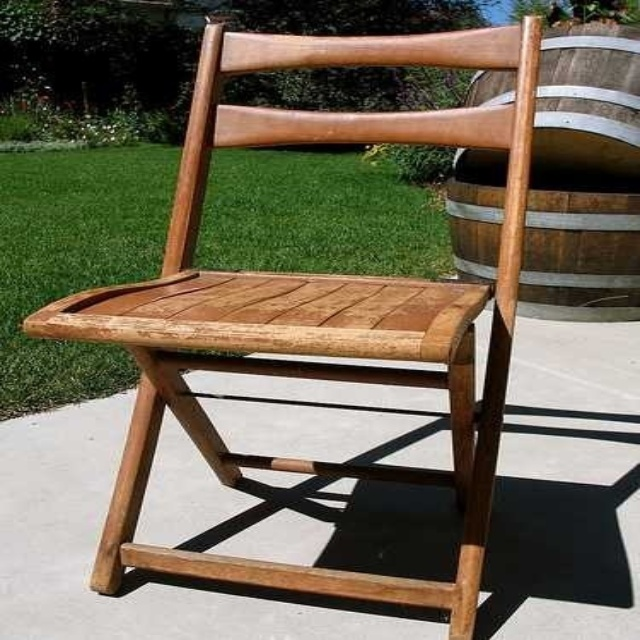obstacle: (24, 17, 539, 639)
